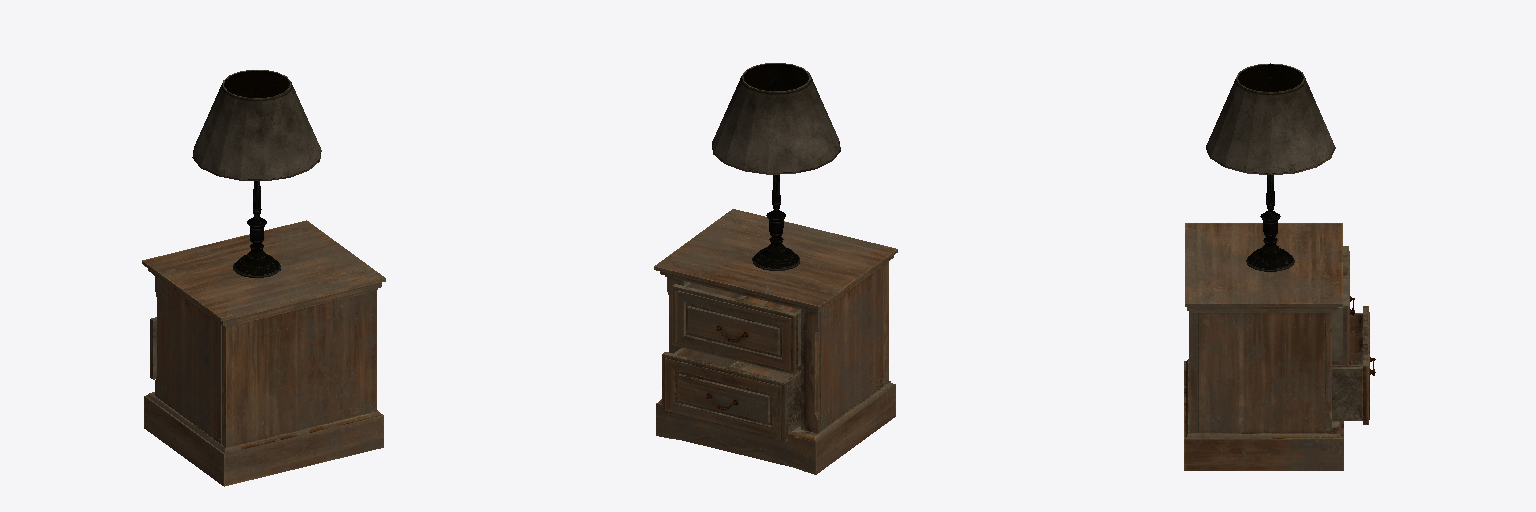
3 renders of one model, left to right at view 1: azimuth 30°, elevation 25°; view 2: azimuth 150°, elevation 25°; view 3: azimuth 270°, elevation 25°, orthographic.
Parts seen in each view (by area): view 1: SM_Nightstand_01_B_Combo; view 2: SM_Nightstand_01_B_Combo; view 3: SM_Nightstand_01_B_Combo.
Boxes of the visible parts, <box> form: SM_Nightstand_01_B_Combo: <box>142,70,385,486</box>; SM_Nightstand_01_B_Combo: <box>654,63,897,474</box>; SM_Nightstand_01_B_Combo: <box>1184,63,1375,470</box>.
Size of the model in its own units: 59.53 by 122 by 59.77.
Materials: 3 (3 with a texture image).